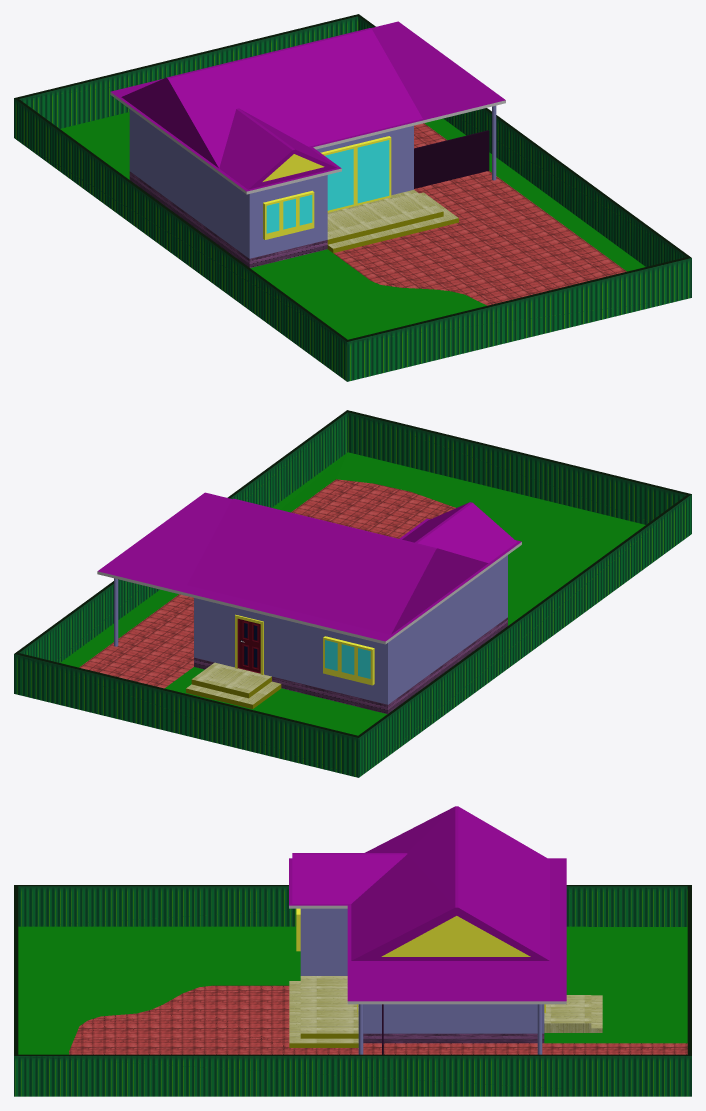
File: ENVO_Backyard.obj
3 views of the same model, one above another, from view 1: azimuth 30°, elevation 25°; view 2: azimuth 150°, elevation 25°; view 3: azimuth 270°, elevation 25° (orthographic).
Visible parts, largest first — view 1: fence_ENVO_Backyard.002, floor_ENVO_Backyard.003, roof_ENVO_Backyard.004, house_ENVO_Backyard, windows3_ENVO_Backyard.005, windows2_ENVO_Backyard.006; view 2: fence_ENVO_Backyard.002, roof_ENVO_Backyard.004, floor_ENVO_Backyard.003, house_ENVO_Backyard, windows1_ENVO_Backyard.007, door_ENVO_Backyard.008; view 3: floor_ENVO_Backyard.003, fence_ENVO_Backyard.002, roof_ENVO_Backyard.004, house_ENVO_Backyard.
Boxes of the visible parts, x1,y1,x2,y2 form: fence_ENVO_Backyard.002: (14, 14, 691, 381); floor_ENVO_Backyard.003: (60, 112, 645, 339); roof_ENVO_Backyard.004: (110, 21, 505, 194); house_ENVO_Backyard: (129, 109, 489, 267); windows3_ENVO_Backyard.005: (320, 136, 391, 212); windows2_ENVO_Backyard.006: (263, 190, 314, 239); fence_ENVO_Backyard.002: (14, 410, 691, 777); roof_ENVO_Backyard.004: (97, 492, 521, 646); floor_ENVO_Backyard.003: (60, 452, 645, 735); house_ENVO_Backyard: (186, 555, 507, 713); windows1_ENVO_Backyard.007: (323, 636, 374, 685); door_ENVO_Backyard.008: (235, 614, 263, 674); floor_ENVO_Backyard.003: (18, 926, 687, 1054); fence_ENVO_Backyard.002: (14, 885, 691, 1096); roof_ENVO_Backyard.004: (289, 806, 566, 1054); house_ENVO_Backyard: (289, 908, 602, 1054).
Size of what is drawn, in the model's own units: 11.76 by 4.41 by 19.7.
Materials: 17 (7 with a texture image).
